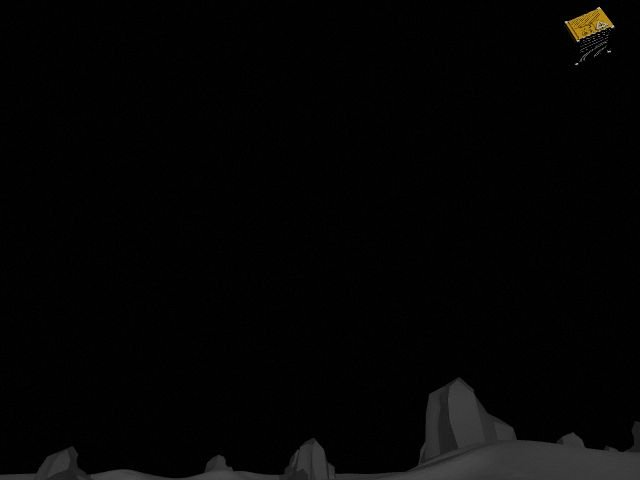cubesat: (562, 2, 621, 73)
